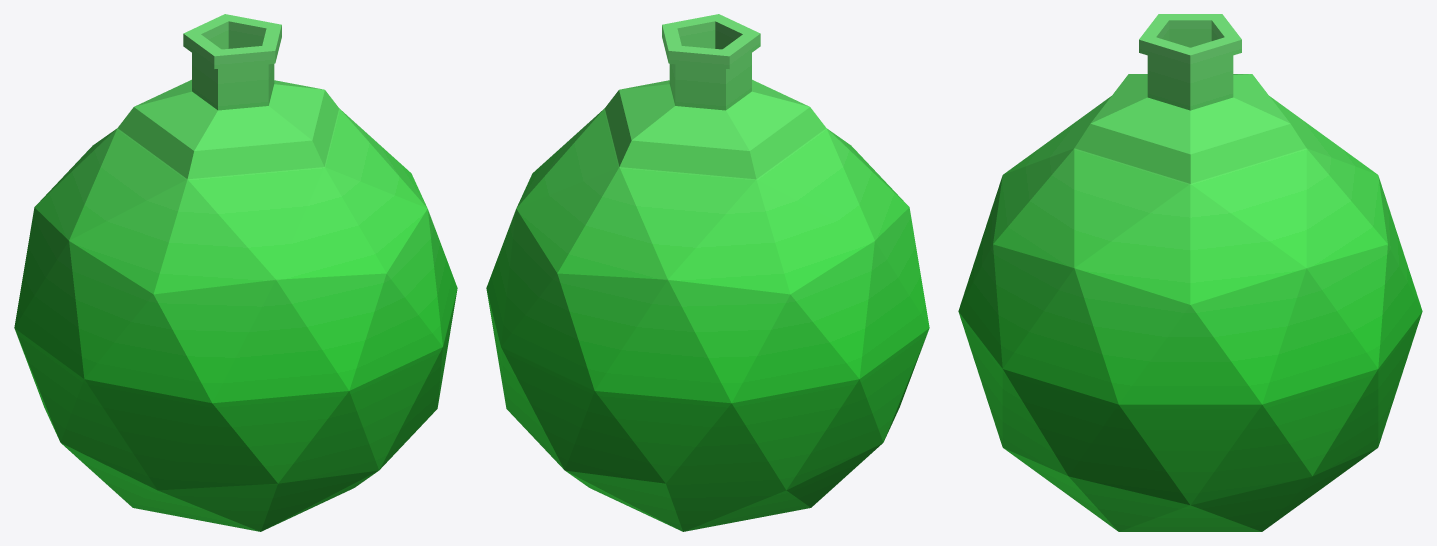
File: UniqueBottle4.fbx
The picture shows the model from 3 angles, left to right: view 1: azimuth 30°, elevation 25°; view 2: azimuth 150°, elevation 25°; view 3: azimuth 270°, elevation 25°; orthographic projection. The views are drawn at different scales.
Parts seen in each view (by area): view 1: UniqueBottle4; view 2: UniqueBottle4; view 3: UniqueBottle4.
Boxes of the visible parts, <box> form: UniqueBottle4: <box>14,14,457,531</box>; UniqueBottle4: <box>486,14,929,531</box>; UniqueBottle4: <box>958,14,1422,531</box>.
Bounding box in the file's own units: 114 × 131 × 120.
